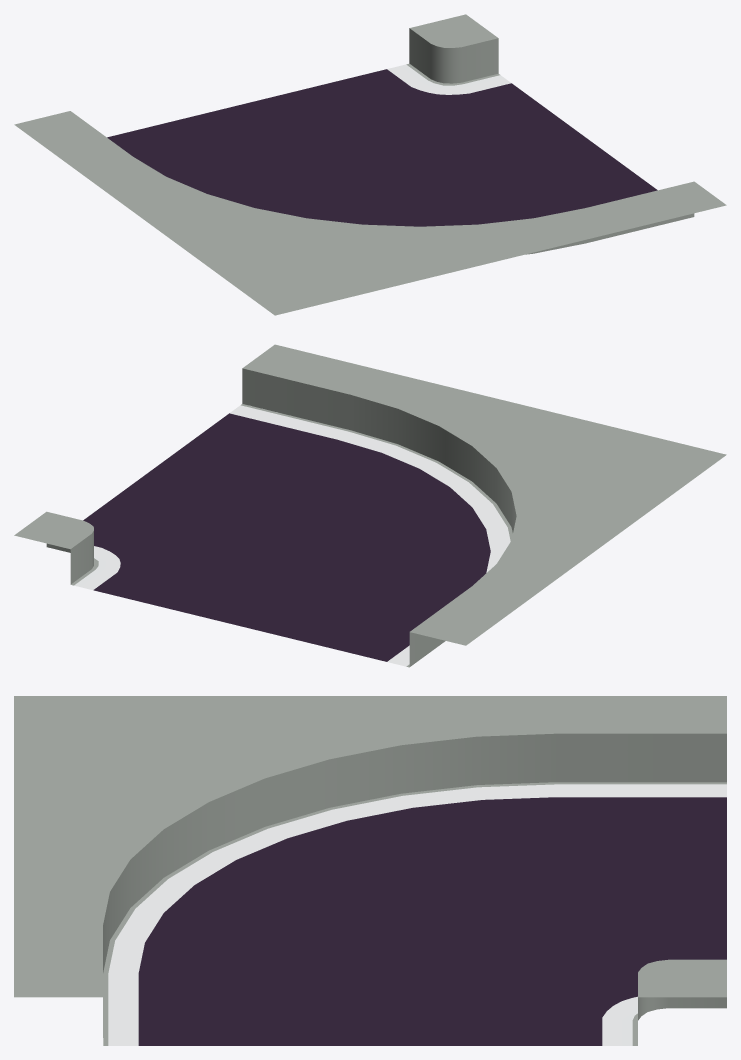
Rendered from Road_Corner.fbx.
3 views of the same model, one above another, from view 1: azimuth 30°, elevation 25°; view 2: azimuth 150°, elevation 25°; view 3: azimuth 270°, elevation 25° (orthographic). The views are drawn at different scales.
Parts seen in each view (by area): view 1: Road_Corner; view 2: Road_Corner; view 3: Road_Corner.
Part boxes in pixels (left/top/right/bottom): Road_Corner: left=14, top=14, right=726, bottom=315; Road_Corner: left=14, top=344, right=726, bottom=667; Road_Corner: left=14, top=696, right=726, bottom=1045.
Bounding box in the file's own units: 4 × 0.3 × 4.
